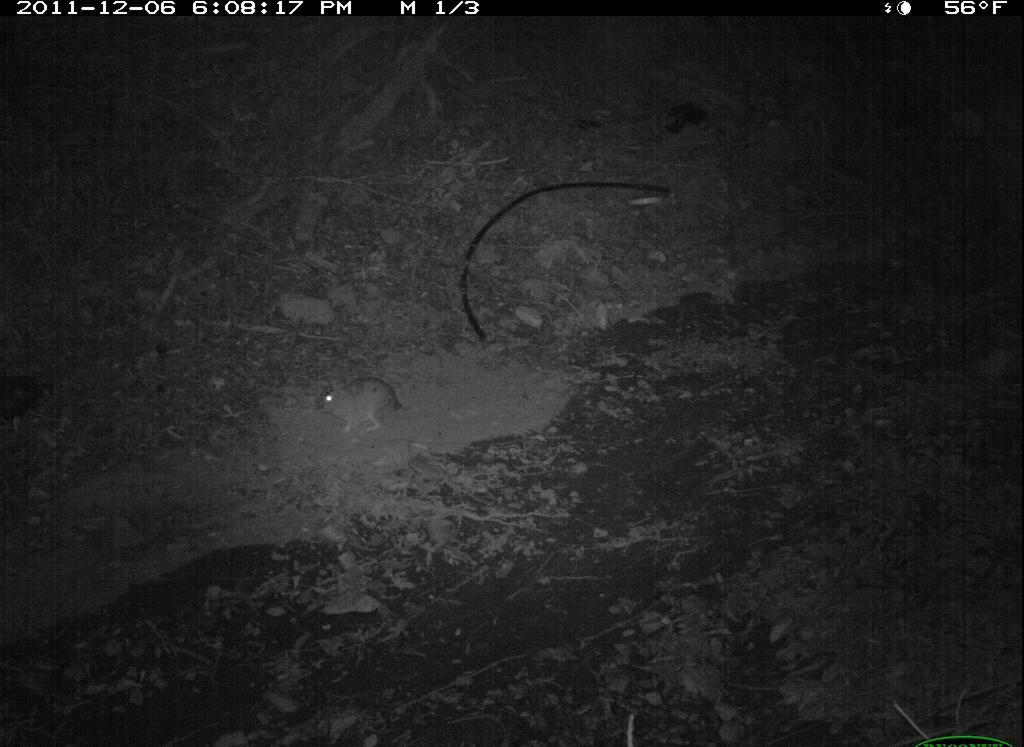rabbit: (299, 368, 425, 445)
